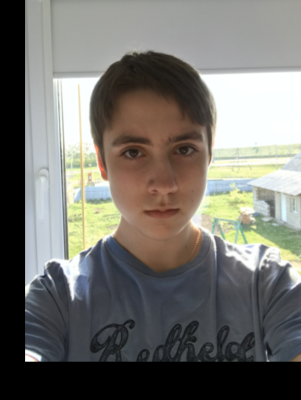without_mask: (106, 124, 209, 240)
